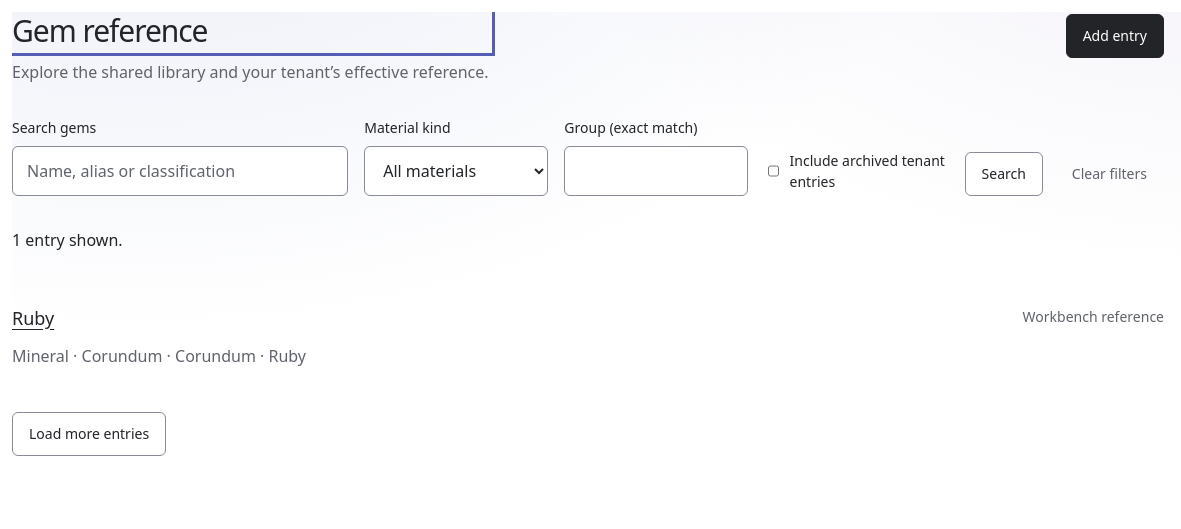
Test: retains loaded rows and retries the failed continuation cursor
Expected: the link "Ruby" is shown, [12,306,54,330]
Note: WHEN retrying the failed continuation.
Click the button "Load more entries". click: coordinates (89, 434)
box: [12,412,166,456]
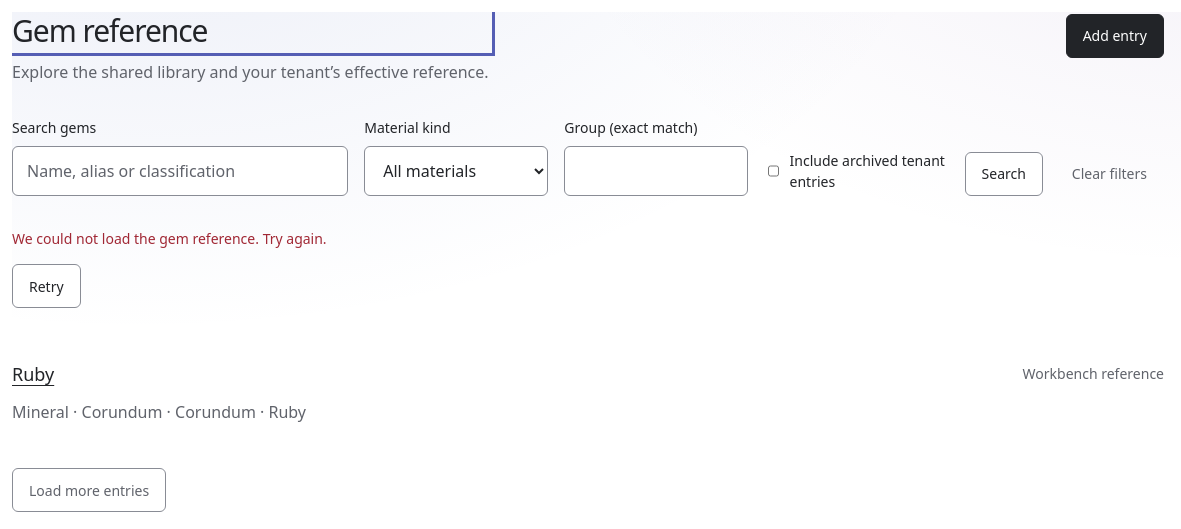
Click the button "Retry". click: coordinates (46, 286)
box: [12,264,81,308]
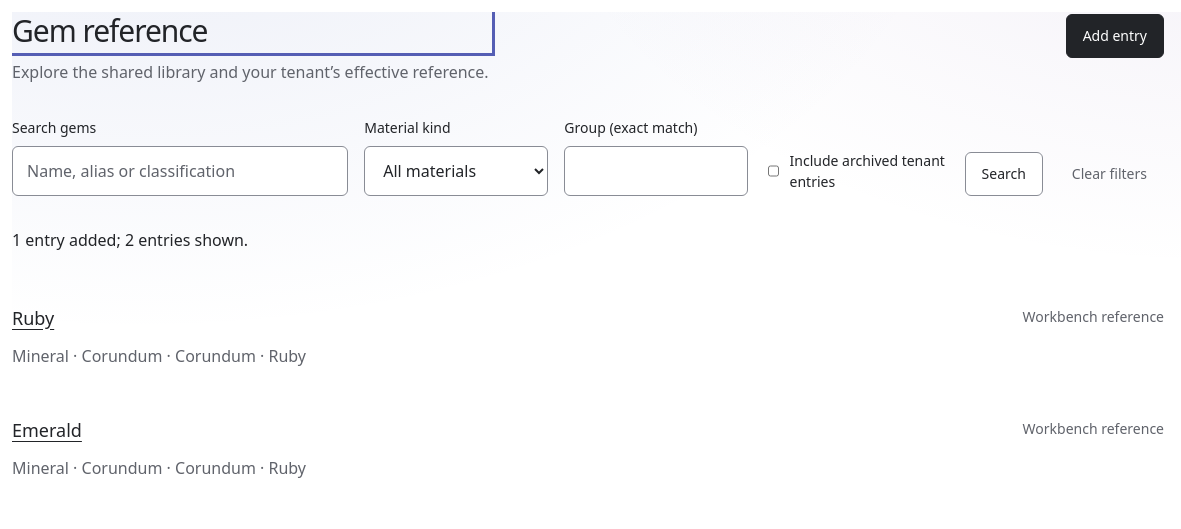
Expected: the link "Ruby" is shown, [12,306,54,330]
Expected: the link "Emerald" is shown, [12,418,82,442]
Expected: the message reads "1 entry added; 2 entries shown.", [12,229,248,251]
